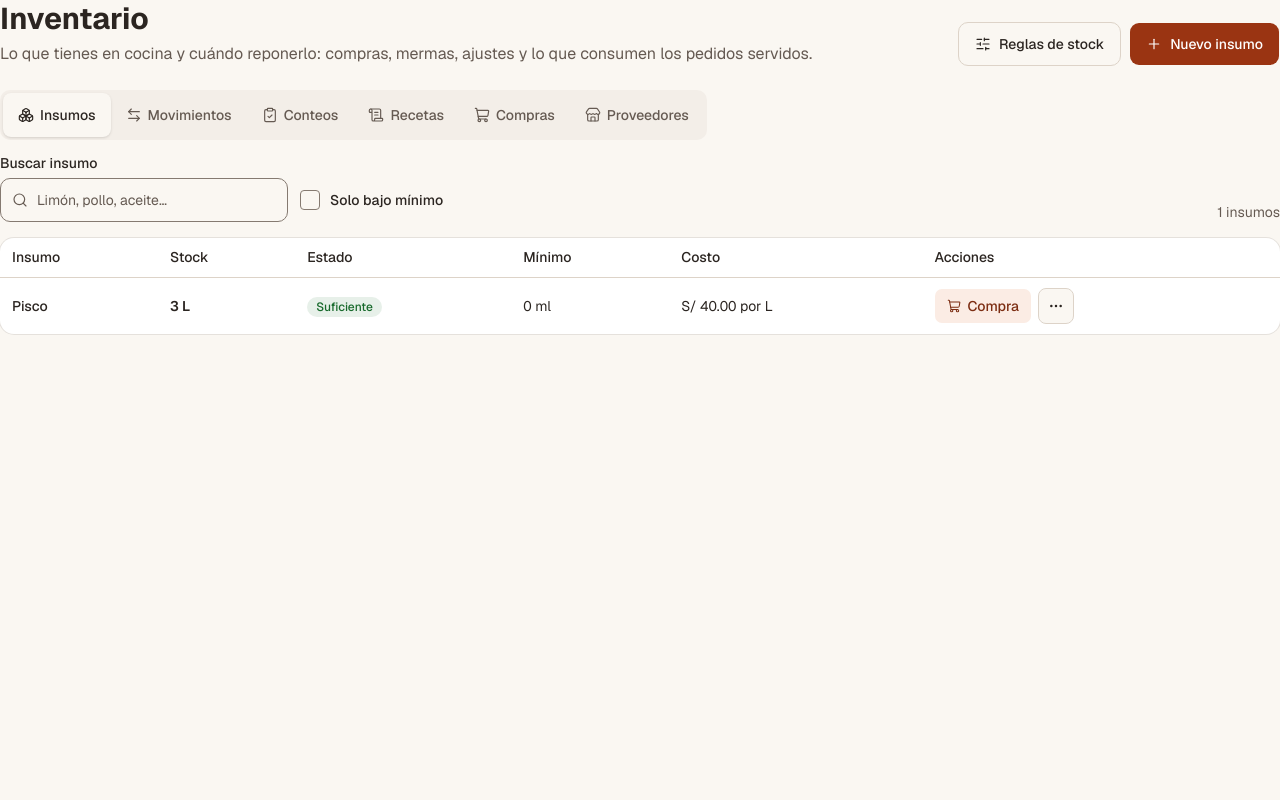
envase del insumo › el servidor que rechaza el envase se explica por su código
Click the button named "Más acciones de Pisco" at (1056, 306), box [1038,288,1074,324]
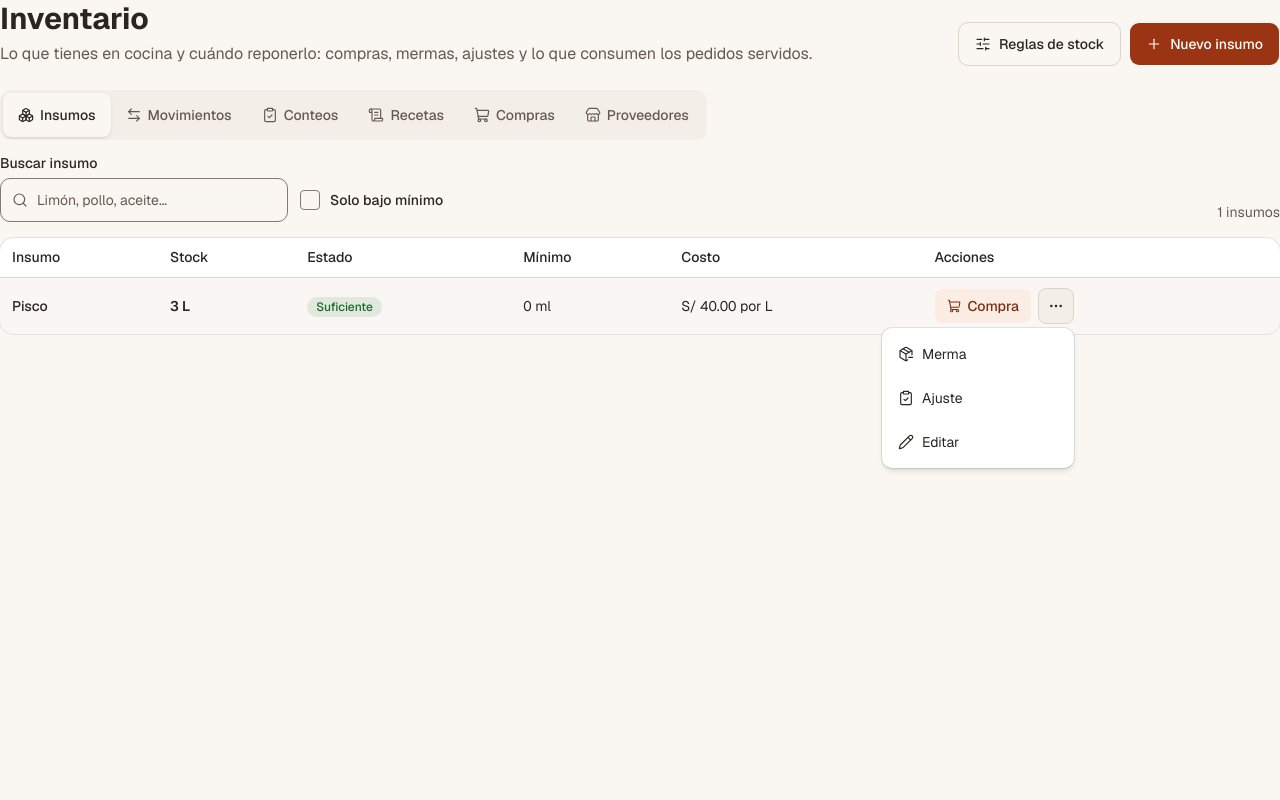
Click the menu item "Editar" at (929, 442), box [898,433,959,451]
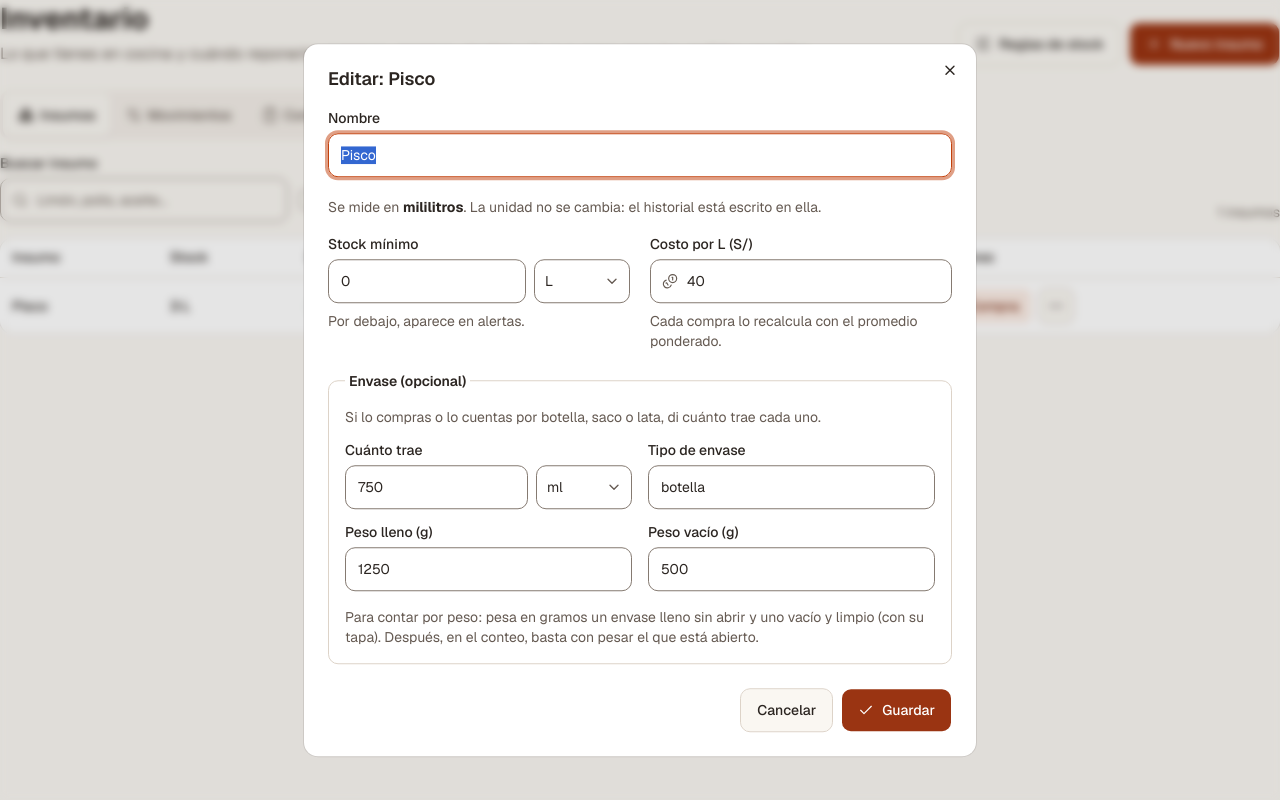
Check: the field labelled "Cuánto trae" holds "750", box [345,465,528,509]
Click the button "Guardar" at (897, 710), box [841,688,952,732]
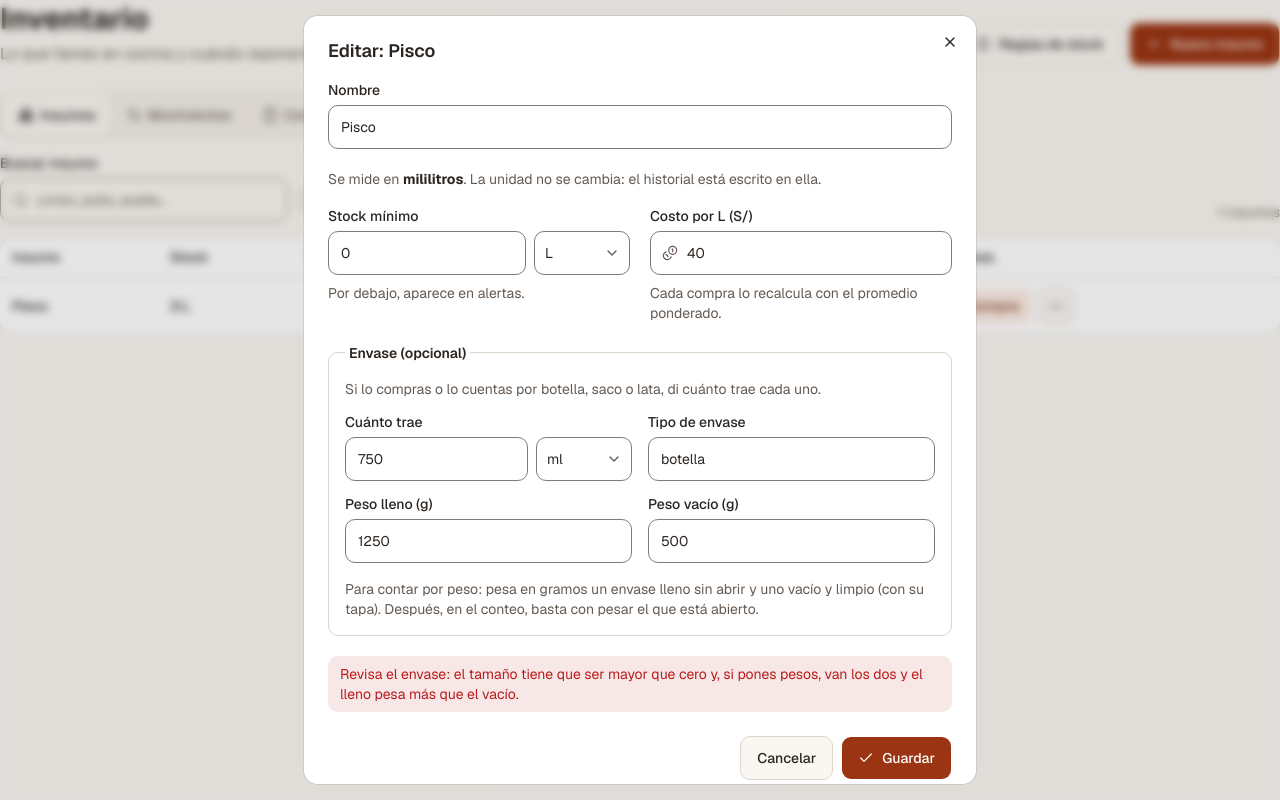
Check: the text "Revisa el envase" is shown, box [340,664,923,702]
